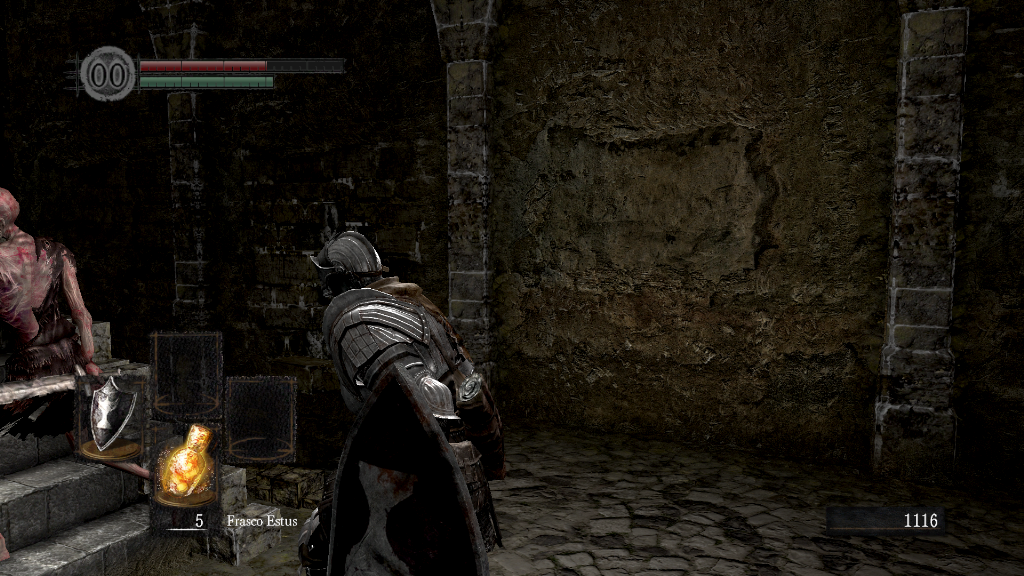health: (138, 58, 343, 71)
humanity: (80, 45, 136, 102)
player: (299, 230, 506, 576)
souls: (825, 506, 945, 536)
stamina: (138, 74, 274, 88)
